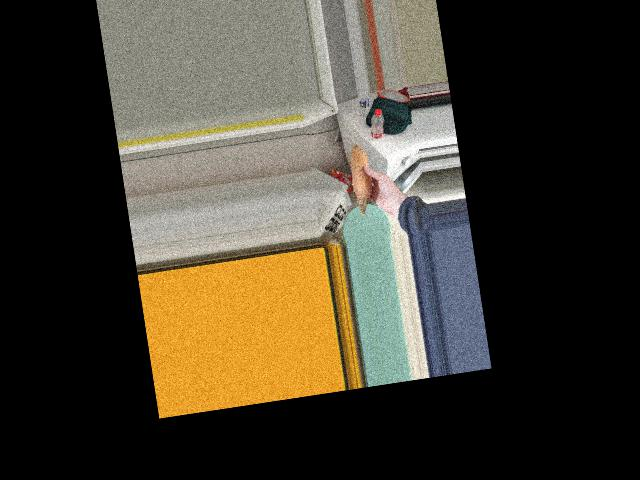sweet_potato: (348, 151, 378, 210)
